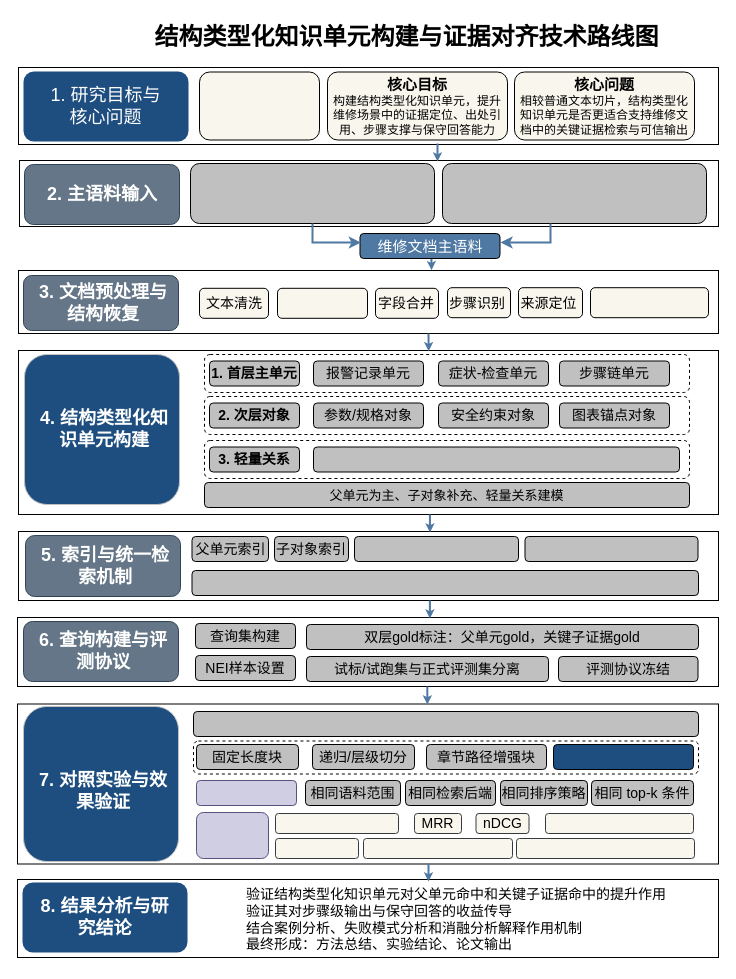
The diagram is 736 pixels wide and 979 high, and some of its shapes have lost their labels. Each missing label, with the centre of its shape:
Conservative Accuracy: point (437, 848)
False-Answer-on-NEI Rate: point (605, 848)
Haas VF 2002 流程排障型文档 症状标题 + 检查项； 过程标题 + 编号步骤 + 警示语 + 图号引用: point (574, 193)
in_path、has_child、precedes、refers_to等: point (496, 459)
Key-Evidence Hit@k: point (619, 823)
MES-hit@k: point (316, 848)
Parent Recall@k: point (336, 823)
Siemens 802D sl 报警诊断型文档 报警号递增组织、字段结构稳定、 条目边界清晰: point (312, 193)
保持父对象完整性，同时利用细粒度对象提升命中能力: point (444, 583)
四组基线对比: point (445, 723)
子对象命中后回指父单元: point (436, 549)
最终排序单位统一为父单元: point (611, 549)
标题层级恢复: point (322, 302)
相同实验条件: point (246, 793)
研究对象 数控机床维修文档: point (259, 105)
结构类型化知识单元: point (623, 757)
评测指标: point (232, 835)
页码/章节路径保留: point (649, 302)
